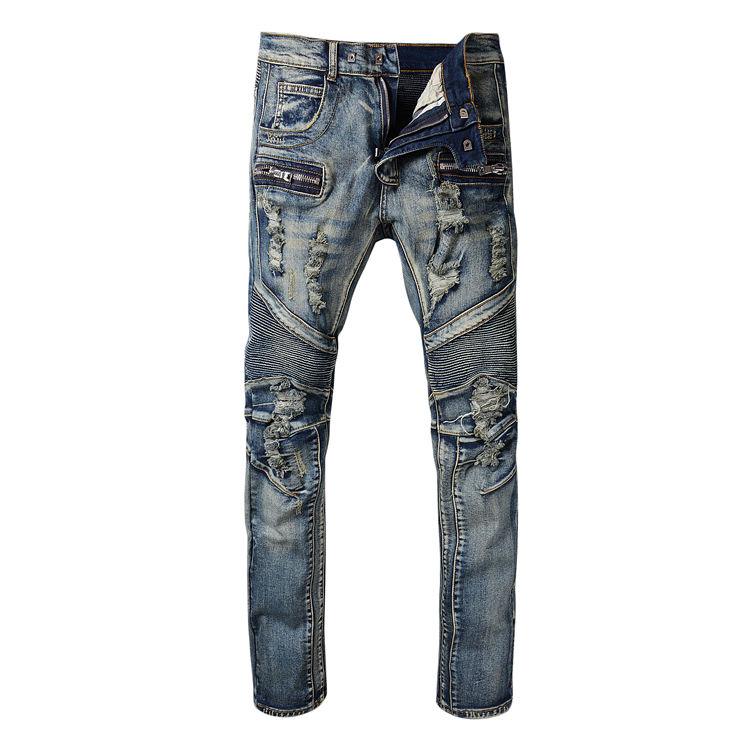jeans: (231, 29, 535, 722)
